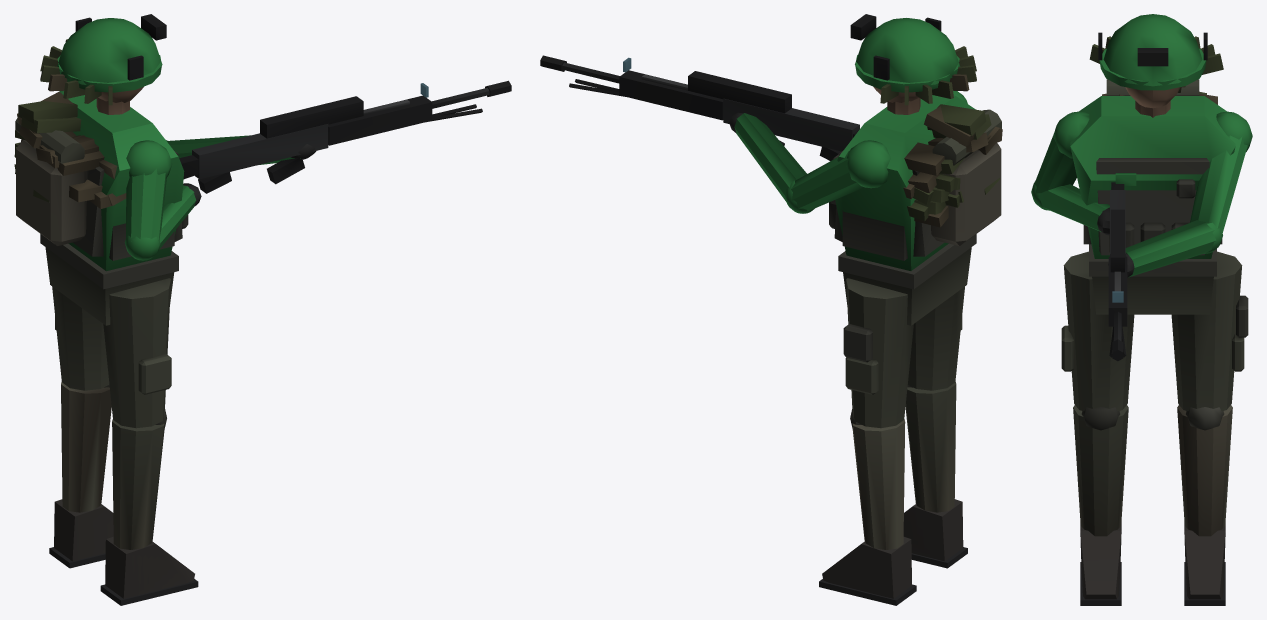
The model's file is u_sniper.glb.
3 views of the same model, side by side, from view 1: azimuth 30°, elevation 25°; view 2: azimuth 150°, elevation 25°; view 3: azimuth 270°, elevation 25° (orthographic).
Parts seen in each view (by area): view 1: Sniper_Walls, Sniper_Details, Sniper_shL, Sniper_shR, Sniper_thL, Sniper_thR; view 2: Sniper_Walls, Sniper_Details, Sniper_shR, Sniper_shL, Sniper_thR, Sniper_thL; view 3: Sniper_Walls, Sniper_shR, Sniper_shL, Sniper_thR, Sniper_Details, Sniper_thL.
Part boxes in pixels (x1,y1,x2,y2): Sniper_Walls: (16,18,511,325); Sniper_Details: (14,14,482,394); Sniper_shL: (100,409,198,605); Sniper_shR: (49,382,113,568); Sniper_thL: (103,278,170,428); Sniper_thR: (52,286,109,390); Sniper_Walls: (540,18,1001,325); Sniper_Details: (569,14,1002,394); Sniper_shR: (819,409,916,605); Sniper_shL: (903,381,967,568); Sniper_thR: (846,278,913,428); Sniper_thL: (908,287,964,390); Sniper_Walls: (1031,14,1252,361); Sniper_shR: (1177,405,1232,605); Sniper_shL: (1073,405,1128,605); Sniper_thR: (1171,251,1242,411); Sniper_Details: (1061,32,1248,371); Sniper_thL: (1063,251,1134,411).
Bounding box in the file's own units: 0.5239 × 0.5985 × 0.2147.
